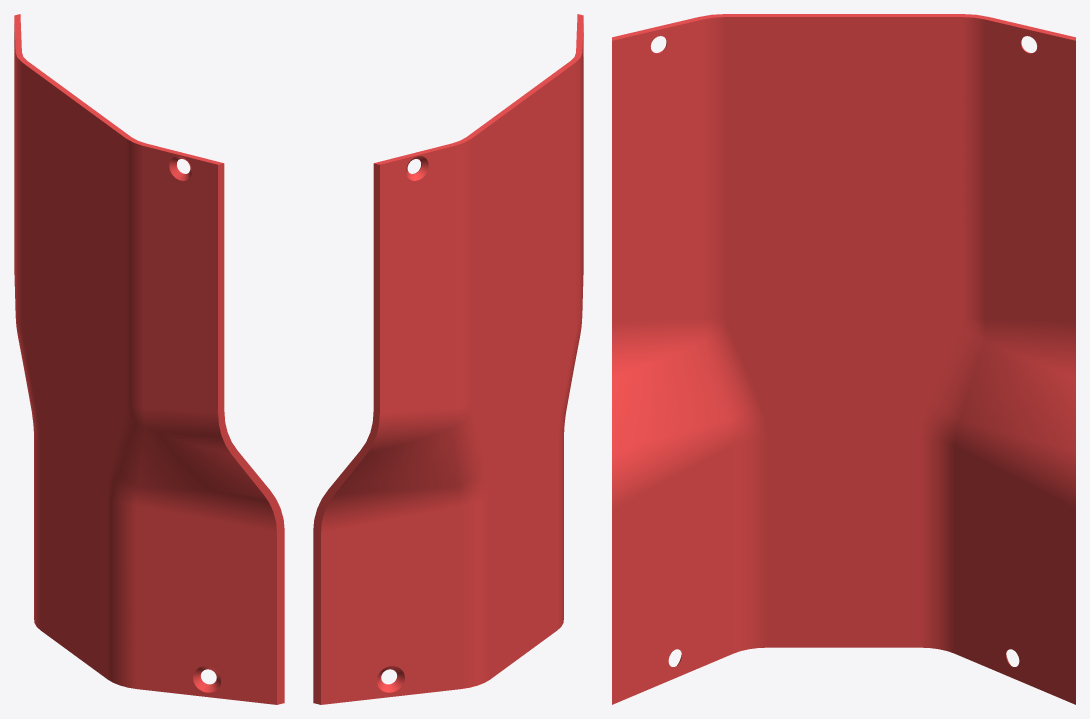
File: chassis_right.obj
The picture shows the model from 3 angles, left to right: view 1: azimuth 30°, elevation 25°; view 2: azimuth 150°, elevation 25°; view 3: azimuth 270°, elevation 25°; orthographic projection. The views are drawn at different scales.
Parts seen in each view (by area): view 1: right; view 2: right; view 3: right.
Part boxes in pixels (x1,y1,x2,y2): right: (14, 14, 284, 704); right: (313, 14, 583, 704); right: (612, 14, 1075, 704).
Size of the model in its own units: 0.0259 by 0.126 by 0.084.
